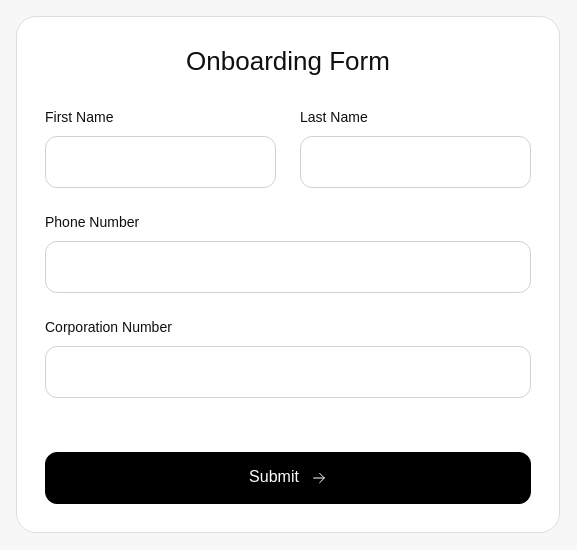
Test: shows the required error for Corporation Number on blur
Click the field labelled "Corporation Number" at (288, 372), box x1=45 y1=346 x2=531 y2=398
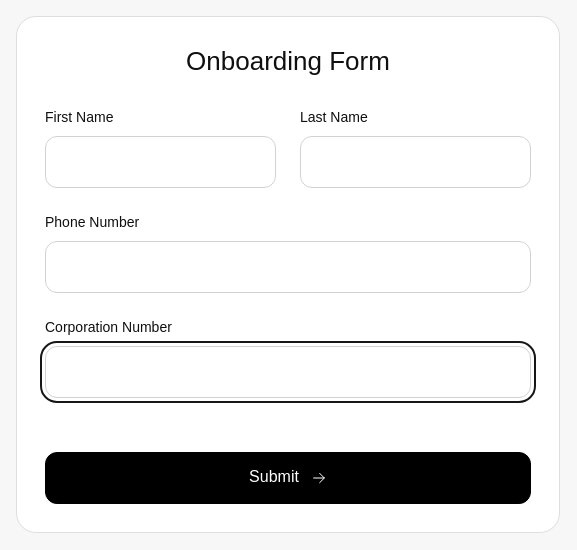
Expected: the text "Corporation number is required" is not shown
Press Tab
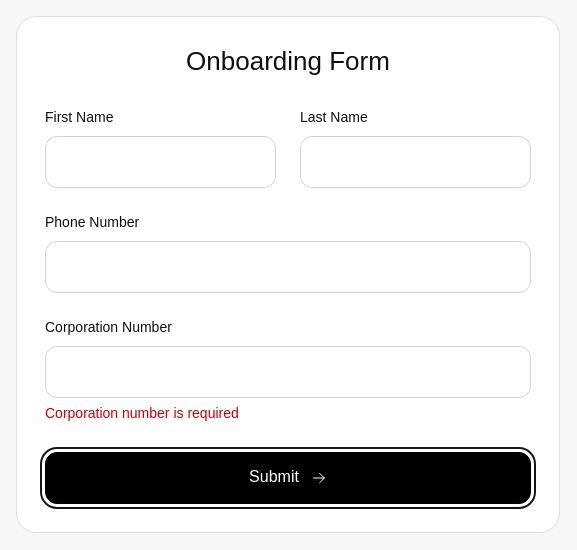
Now the text "Corporation number is required" is shown, box x1=45 y1=405 x2=239 y2=421
